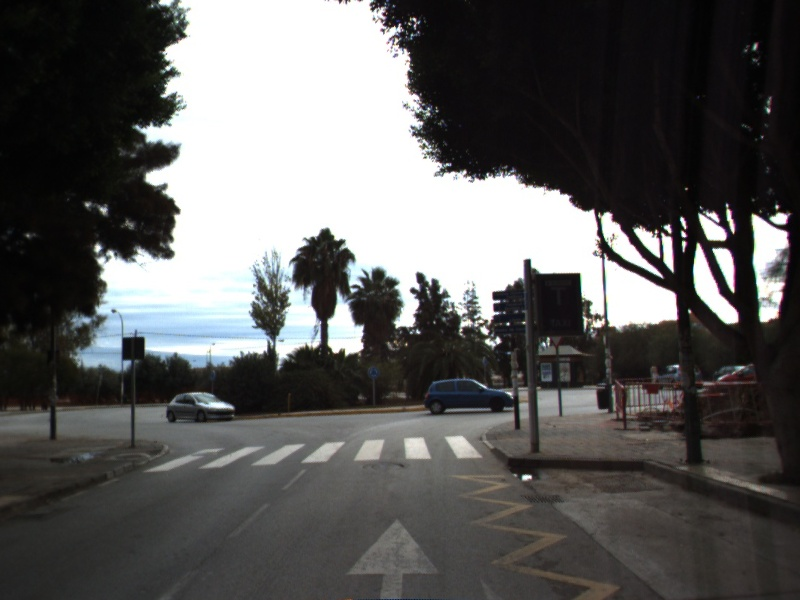STRAIGHT: (342, 514, 445, 600)
